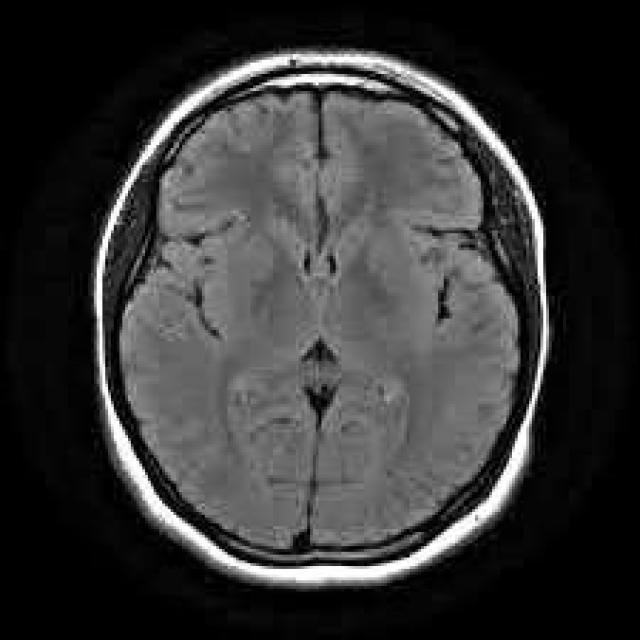notumor: (94, 51, 552, 594)
